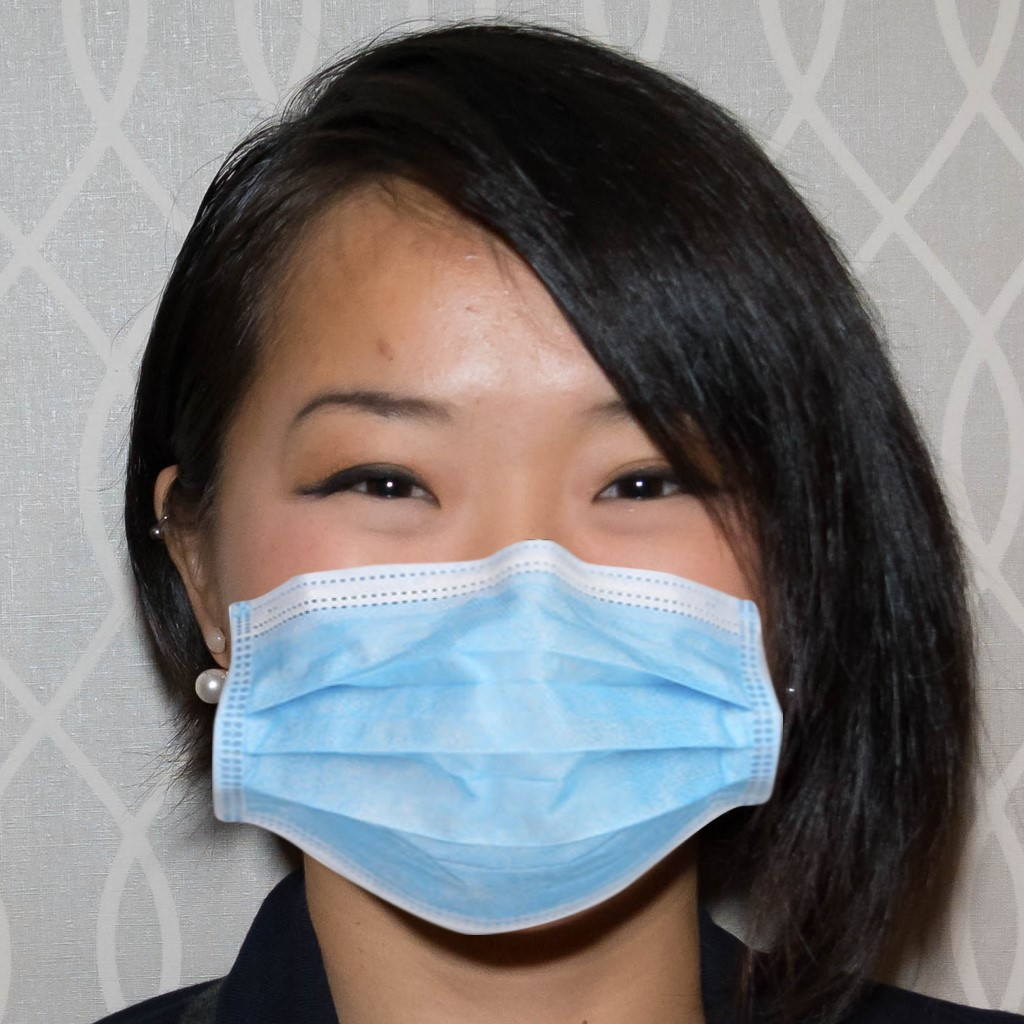con_mascara: (195, 172, 819, 971)
